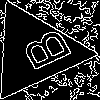B: (10, 26, 73, 78)
